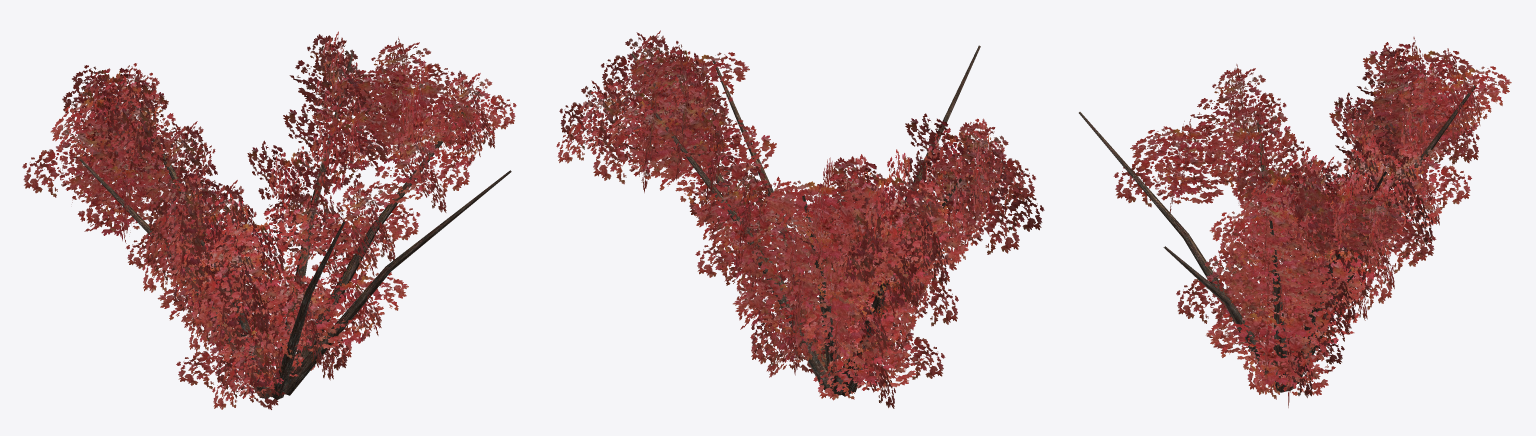
File: bush_3d_06_red_lod1.glb
3 views of the same model, side by side, from view 1: azimuth 30°, elevation 25°; view 2: azimuth 150°, elevation 25°; view 3: azimuth 270°, elevation 25° (orthographic). The views are drawn at different scales.
Parts seen in each view (by area): view 1: foliage_cards, wood_geometry; view 2: foliage_cards, wood_geometry; view 3: foliage_cards, wood_geometry.
Part boxes in pixels (x1=…): foliage_cards: x1=22, y1=31, x2=516, y2=409; wood_geometry: x1=79, y1=51, x2=511, y2=399; foliage_cards: x1=556, y1=30, x2=1044, y2=408; wood_geometry: x1=631, y1=45, x2=980, y2=396; foliage_cards: x1=1113, y1=37, x2=1511, y2=407; wood_geometry: x1=1079, y1=85, x2=1475, y2=392.
Bounding box in the file's own units: 2.93 × 1.94 × 2.64.
2 materials, 2 textured.
